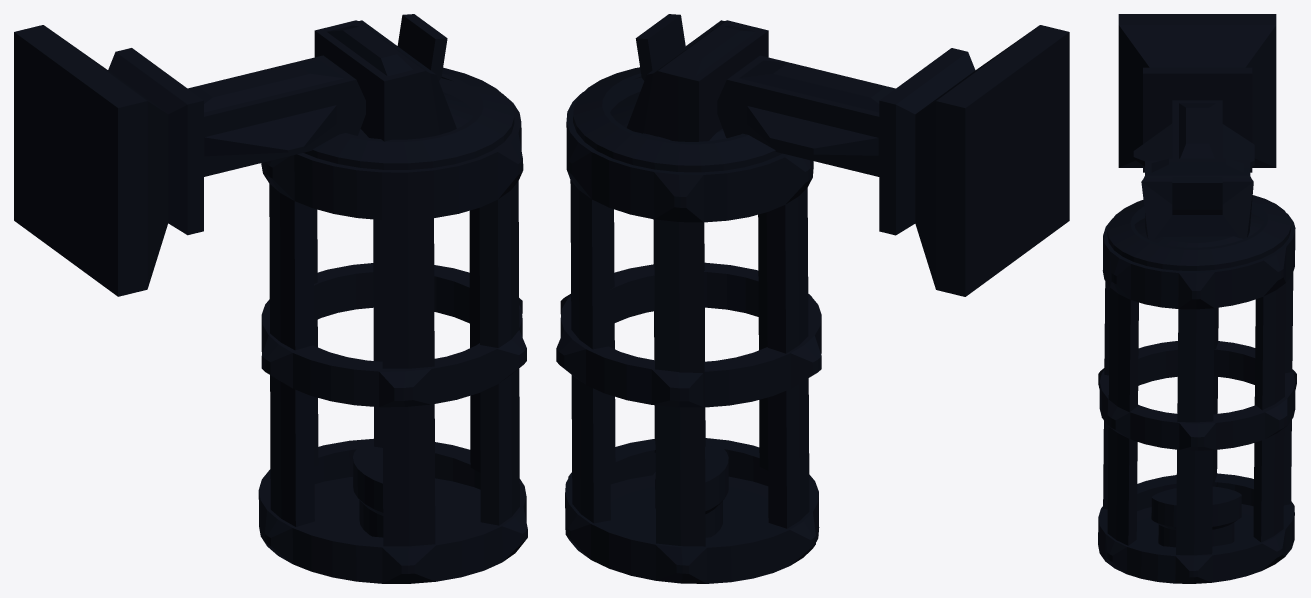
Rendered from Lantern.fbx.
The picture shows the model from 3 angles, left to right: view 1: azimuth 30°, elevation 25°; view 2: azimuth 150°, elevation 25°; view 3: azimuth 270°, elevation 25°; orthographic projection. The views are drawn at different scales.
Visible parts, largest first — view 1: Cylinder, Cube; view 2: Cylinder, Cube; view 3: Cylinder, Cube.
Boxes of the visible parts, x1,y1,x2,y2 form: Cylinder: [258, 67, 527, 583]; Cube: [14, 14, 456, 296]; Cylinder: [556, 67, 821, 583]; Cube: [627, 14, 1069, 296]; Cylinder: [1098, 195, 1296, 583]; Cube: [1118, 14, 1276, 240].
Bounding box in the file's own units: 40.51 × 46.33 × 20.34.
